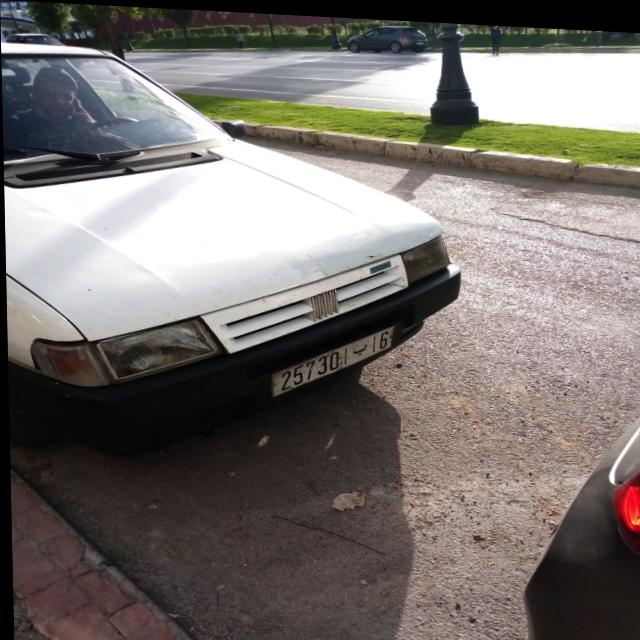License-Plate: (270, 323, 394, 394)
